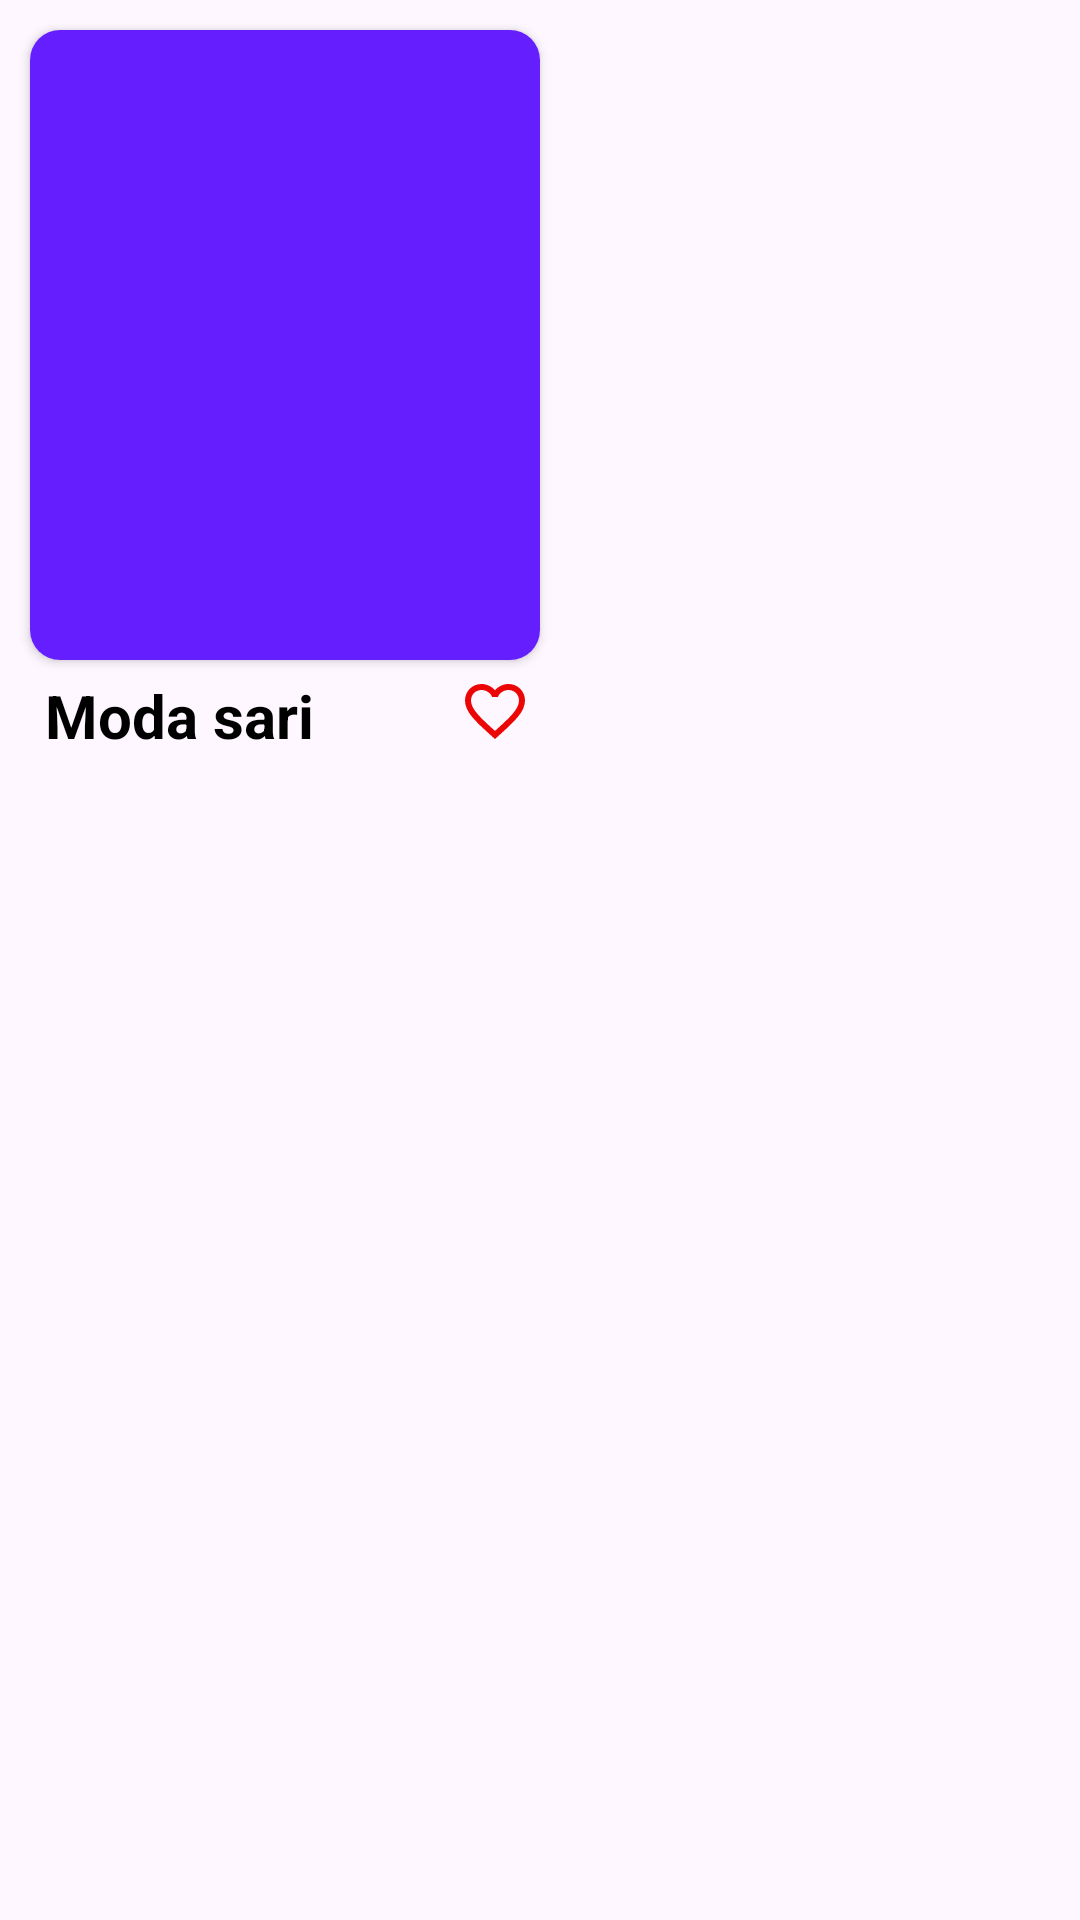

Screen size 1080 × 1920. Icon name, then its box in pixels as (x1, y1, x2, y2):
favorite border: (465, 684, 525, 739)
